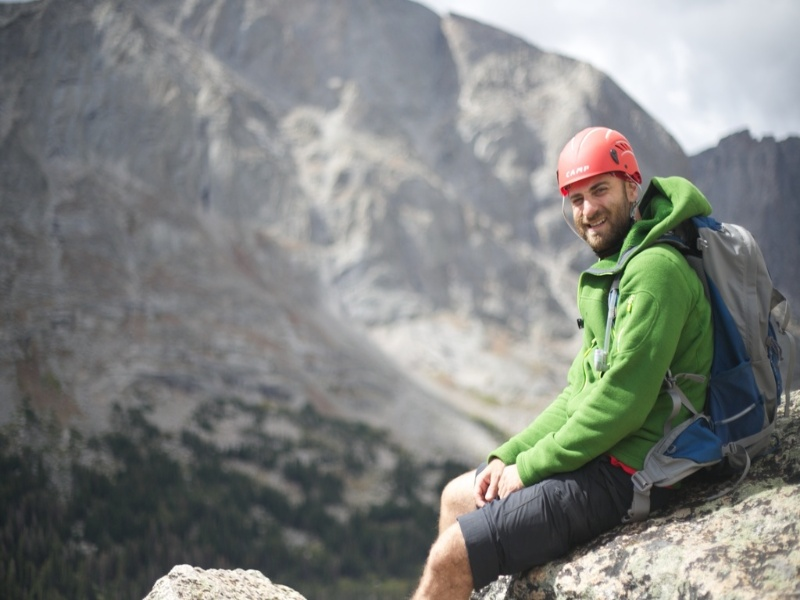Baret: (557, 126, 642, 189)
